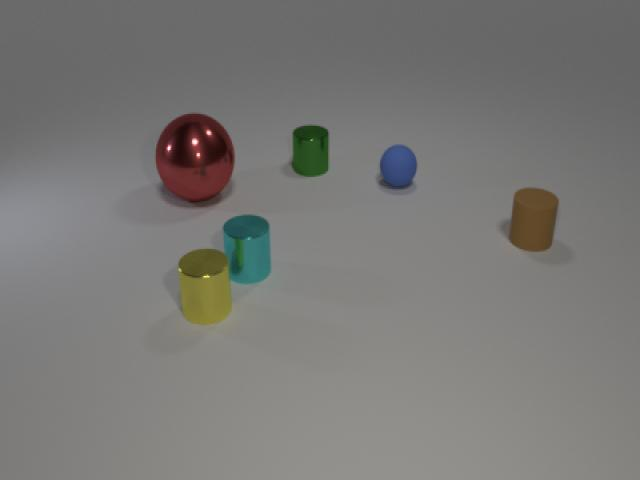cylinder: (174, 242, 237, 329), (505, 181, 561, 255), (220, 210, 274, 285), (287, 120, 335, 184)
round ball: (152, 110, 239, 206), (378, 140, 420, 191)
